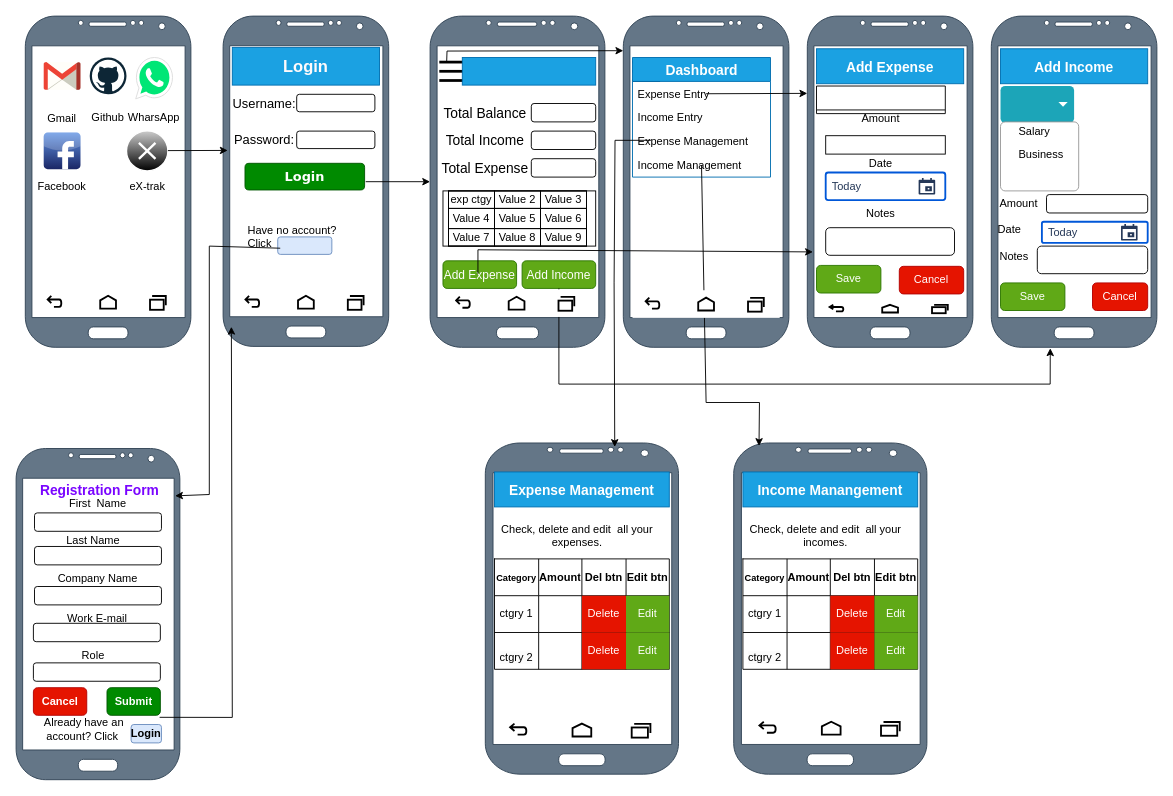
Image size: 1173x796. Some labels were removed from this diagram. Here are the shapes that lost their labels. From the top down, the centre of each, then its label:
point (528, 71): Dashboad
point (880, 99): Expense Category
point (1037, 104): source
point (1039, 156): Loan
point (304, 245): Signup
